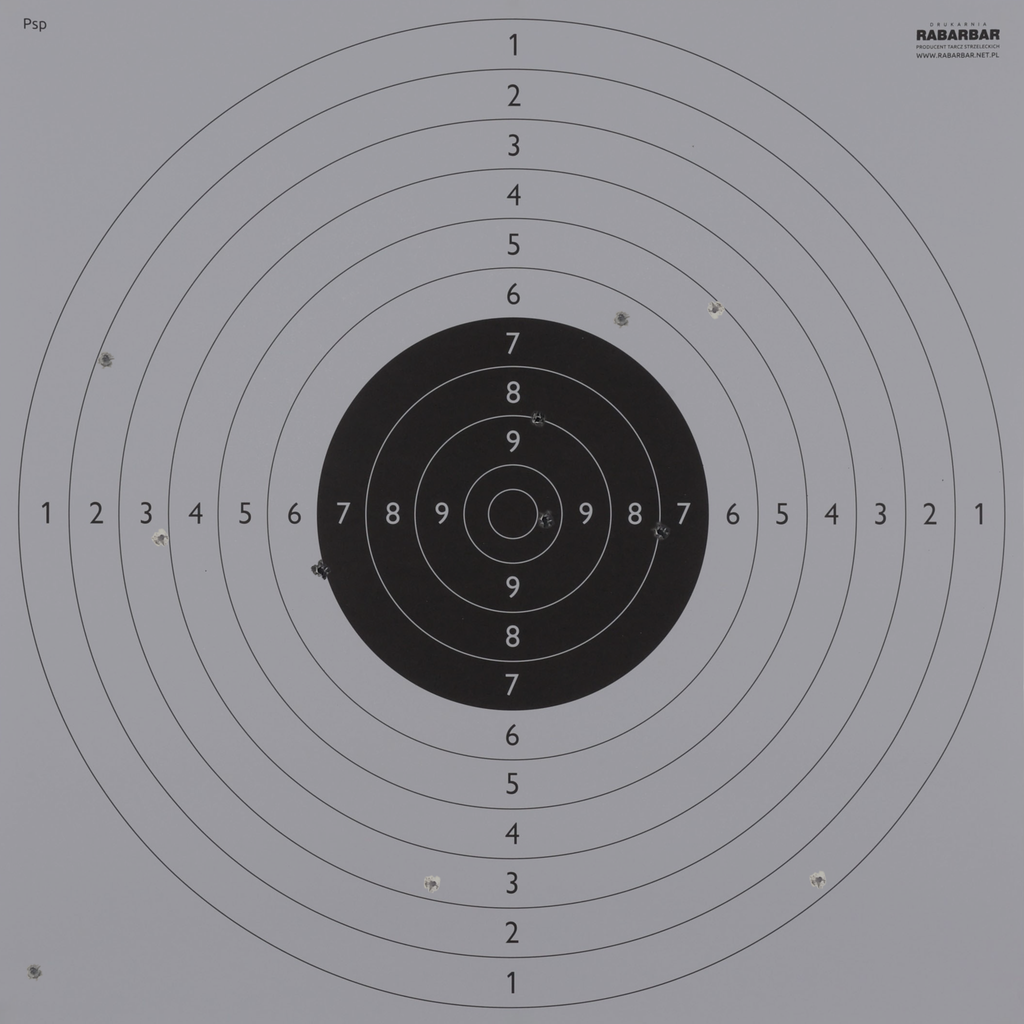0 punktow: (25, 962, 43, 981)
1 punkt: (810, 871, 828, 889)
10 punktow: (536, 510, 554, 529)
2 punkty: (97, 350, 115, 368)
3 punkty: (423, 875, 442, 893)
4 punkty: (152, 529, 171, 547)
5 punktow: (706, 300, 724, 319)
6 punktow: (612, 309, 631, 328)
7 punktow: (312, 561, 330, 580)
8 punktow: (651, 523, 669, 541)
9 punktow: (528, 410, 547, 429)
